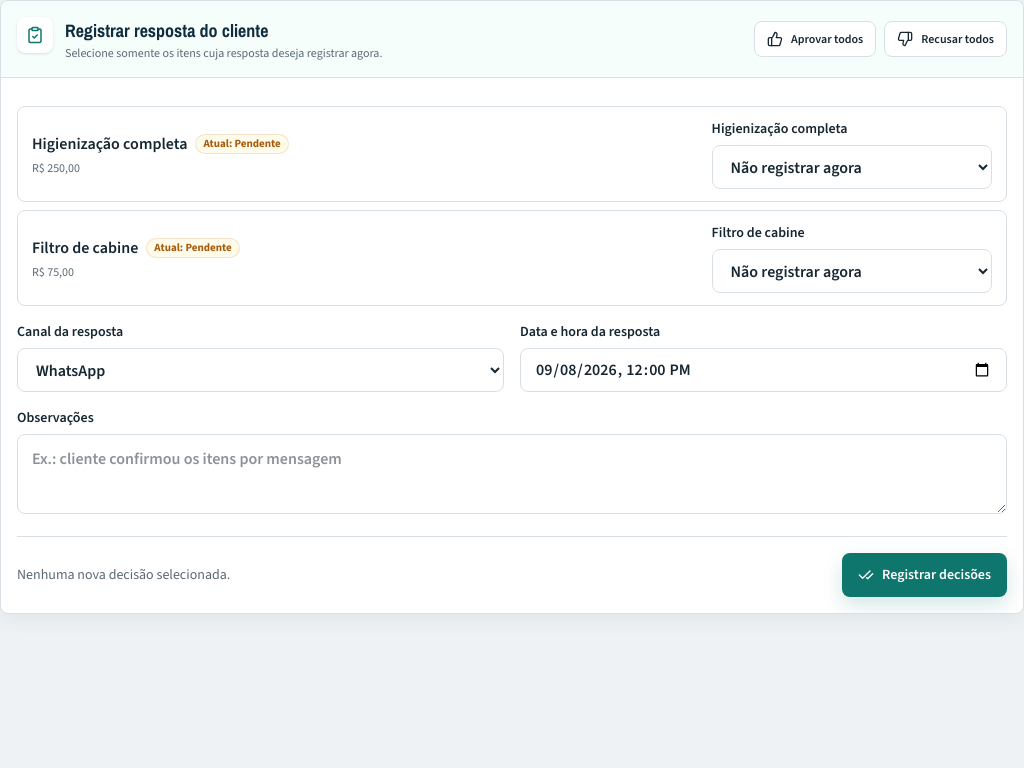
Test: painel de aprovação › preenche todas as decisões com o atalho de aprovação
What coordinates should you click on to do the following:
click the button "Aprovar todos"
I would click on:
 (815, 39)
Its box is [754,21,876,57].
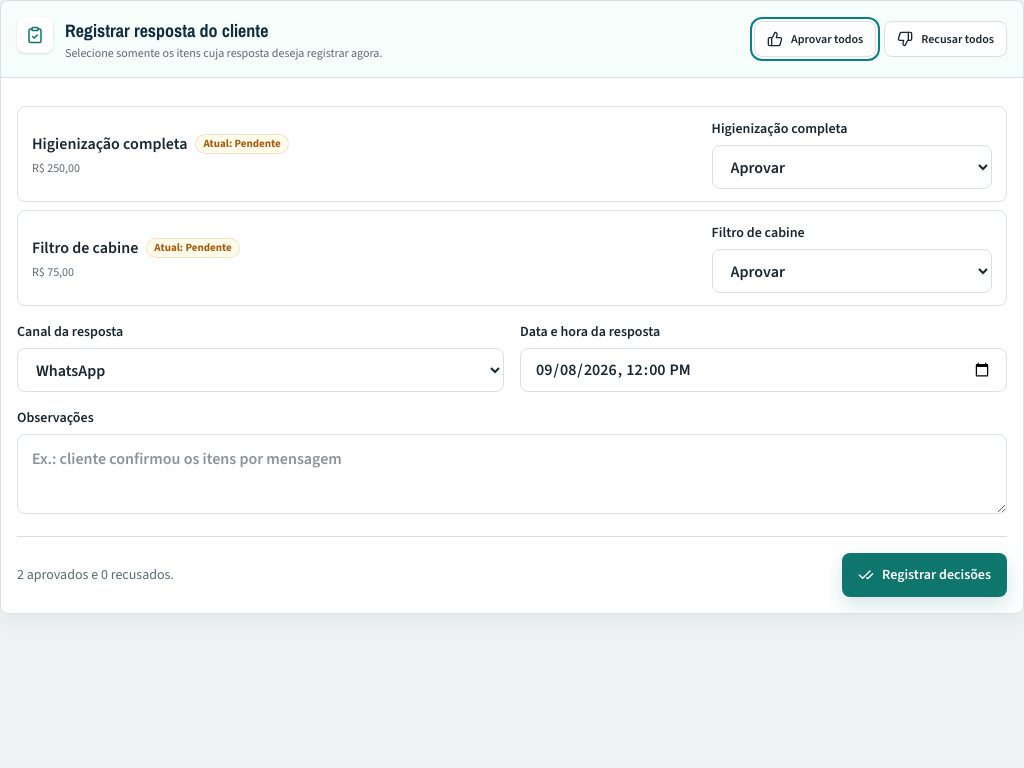
expect the dropdown named "Decisão para Higienização completa" shows "Aprovar": met, box [712,145,992,189]
expect the dropdown named "Decisão para Filtro de cabine" shows "Aprovar": met, box [712,249,992,293]
